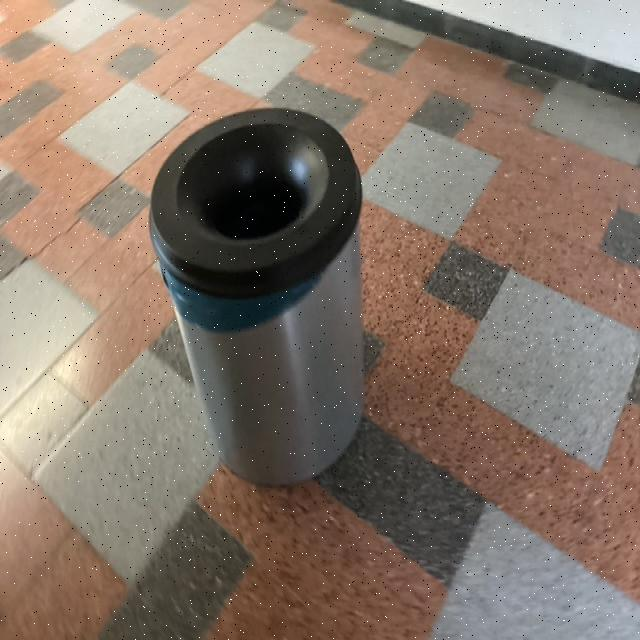garbage container: (142, 85, 394, 498)
